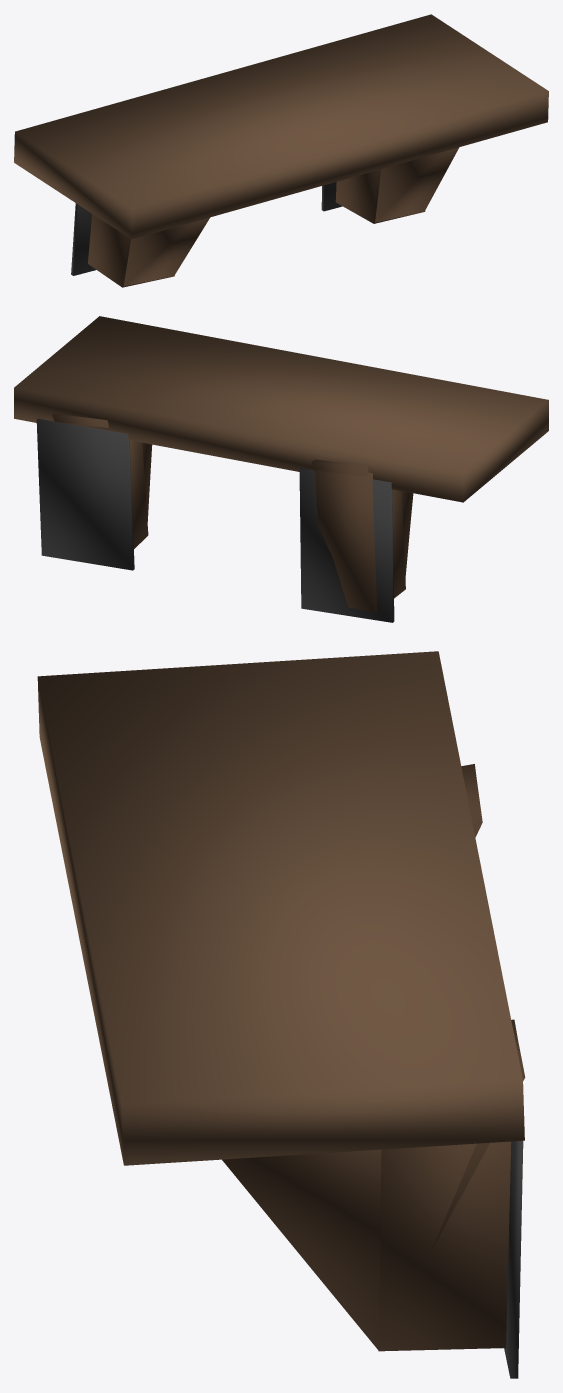
Rendered from myAsset_shelfxyz.fbx.
The picture shows the model from 3 angles, top to bottom: view 1: azimuth 30°, elevation 25°; view 2: azimuth 150°, elevation 25°; view 3: azimuth 270°, elevation 25°; orthographic projection. The views are drawn at different scales.
Visible parts, largest first — view 1: p.0002, p.0020, p.0015, p.0016, p.0019, p.0009, p.0018, p.0012, p.0011; view 2: p.0002, p.0011, p.0009, p.0014, p.0016, p.0019, p.0015, p.0012, p.0020, p.0018; view 3: p.0002, p.0017, p.0018, p.0020, p.0011.
Boxes of the visible parts, x1,y1,x2,y2 form: p.0002: [14, 14, 548, 239]; p.0020: [375, 147, 459, 222]; p.0015: [123, 217, 210, 286]; p.0016: [88, 214, 174, 287]; p.0019: [335, 169, 425, 223]; p.0009: [71, 203, 95, 275]; p.0018: [391, 152, 442, 204]; p.0012: [140, 222, 192, 270]; p.0011: [321, 182, 342, 211]; p.0002: [14, 316, 548, 502]; p.0011: [36, 418, 134, 570]; p.0009: [299, 467, 394, 622]; p.0014: [315, 471, 376, 611]; p.0016: [315, 470, 405, 611]; p.0019: [129, 440, 148, 548]; p.0015: [312, 462, 409, 578]; p.0012: [311, 459, 413, 558]; p.0020: [53, 415, 150, 521]; p.0018: [52, 413, 152, 502]; p.0002: [37, 651, 524, 1165]; p.0017: [378, 1141, 511, 1350]; p.0018: [297, 1019, 524, 1349]; p.0020: [222, 1047, 525, 1349]; p.0011: [504, 1140, 523, 1378].
Bounding box in the file's own units: 29.8 × 14.19 × 10.76.
